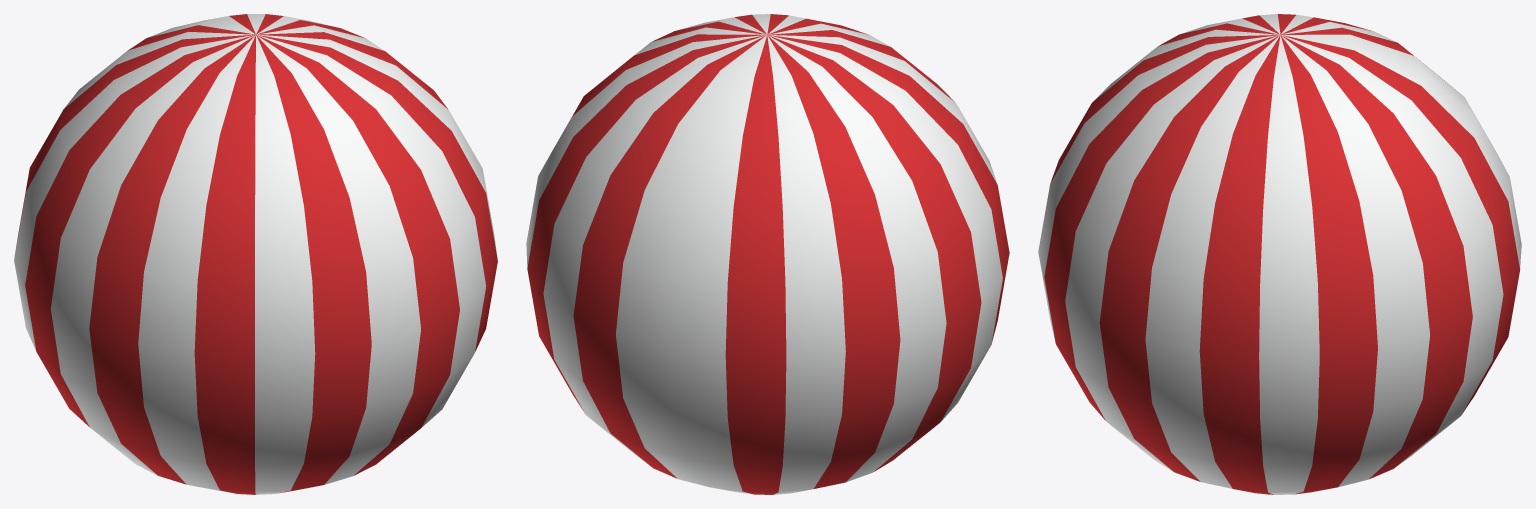
Rendered from ball.fbx.
3 views of the same model, side by side, from view 1: azimuth 30°, elevation 25°; view 2: azimuth 150°, elevation 25°; view 3: azimuth 270°, elevation 25° (orthographic).
Parts seen in each view (by area): view 1: ball; view 2: ball; view 3: ball.
Boxes of the visible parts, x1,y1,x2,y2 form: ball: (14,14,497,494); ball: (526,14,1009,494); ball: (1038,14,1521,494).
Size of the model in its own units: 37.91 by 38 by 37.9.
